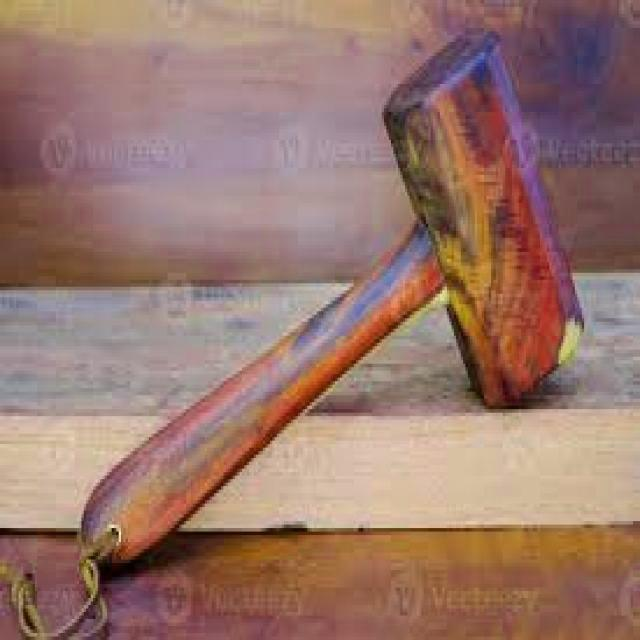hammer: (76, 14, 586, 581)
